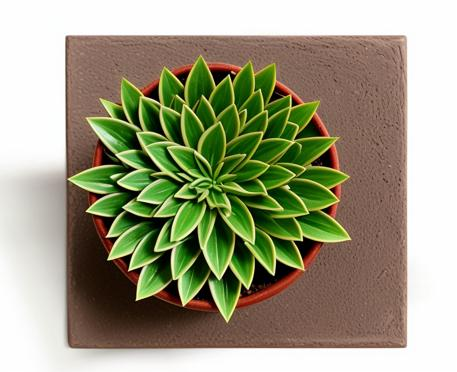pottedplant: (64, 35, 407, 348)
